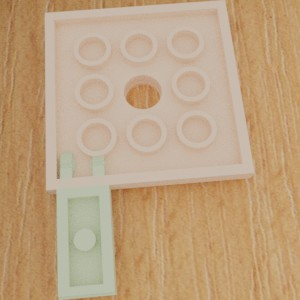lego: (44, 0, 254, 194), (56, 149, 116, 300)
